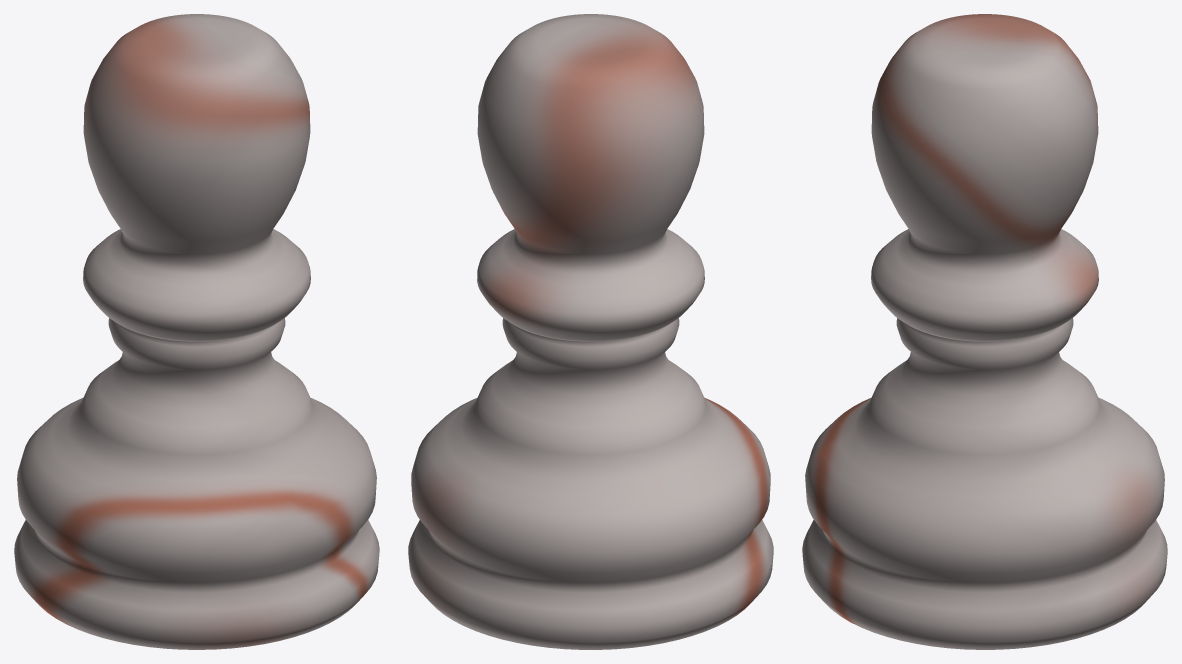
File: whitePawn.fbx
3 renders of one model, left to right at view 1: azimuth 30°, elevation 25°; view 2: azimuth 150°, elevation 25°; view 3: azimuth 270°, elevation 25°, orthographic.
Parts seen in each view (by area): view 1: whitePawn; view 2: whitePawn; view 3: whitePawn.
Part boxes in pixels (<box>): whitePawn: <box>14,14,379,649</box>; whitePawn: <box>408,14,773,649</box>; whitePawn: <box>802,14,1167,649</box>.
Bounding box in the file's own units: 61.34 × 100 × 61.34.
Materials: 1 (1 with a texture image).
